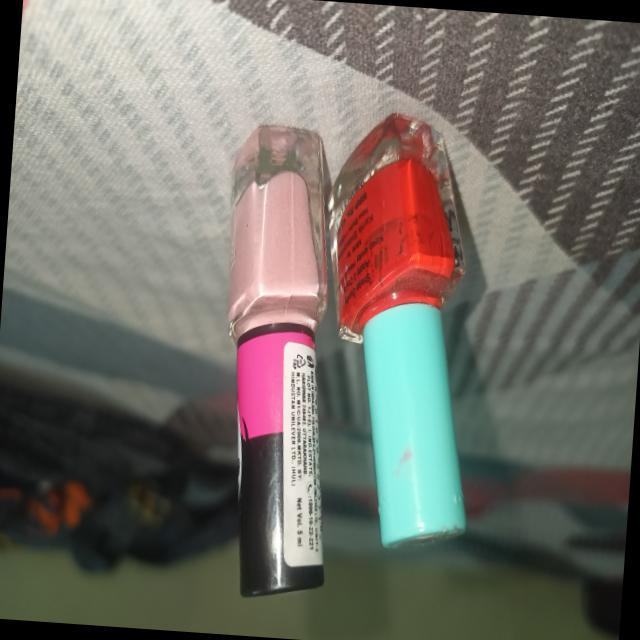glass: (322, 73, 485, 566), (206, 98, 339, 611)
